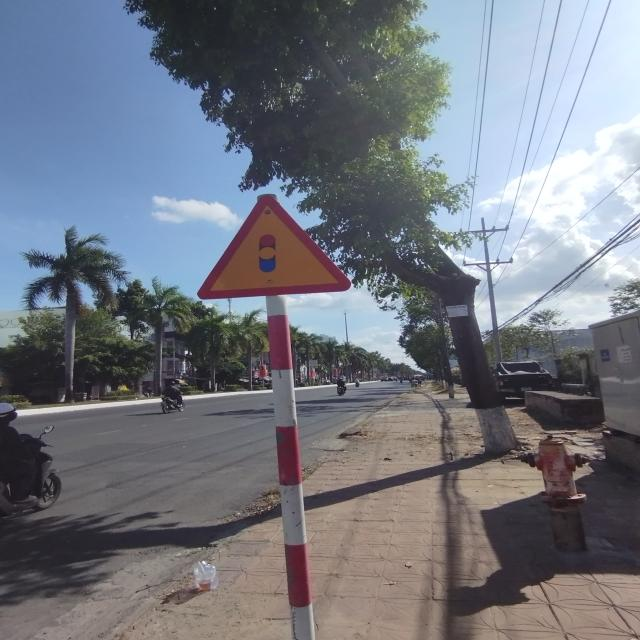Duong_Co_Go_Giam_Toc: (198, 194, 352, 300)
